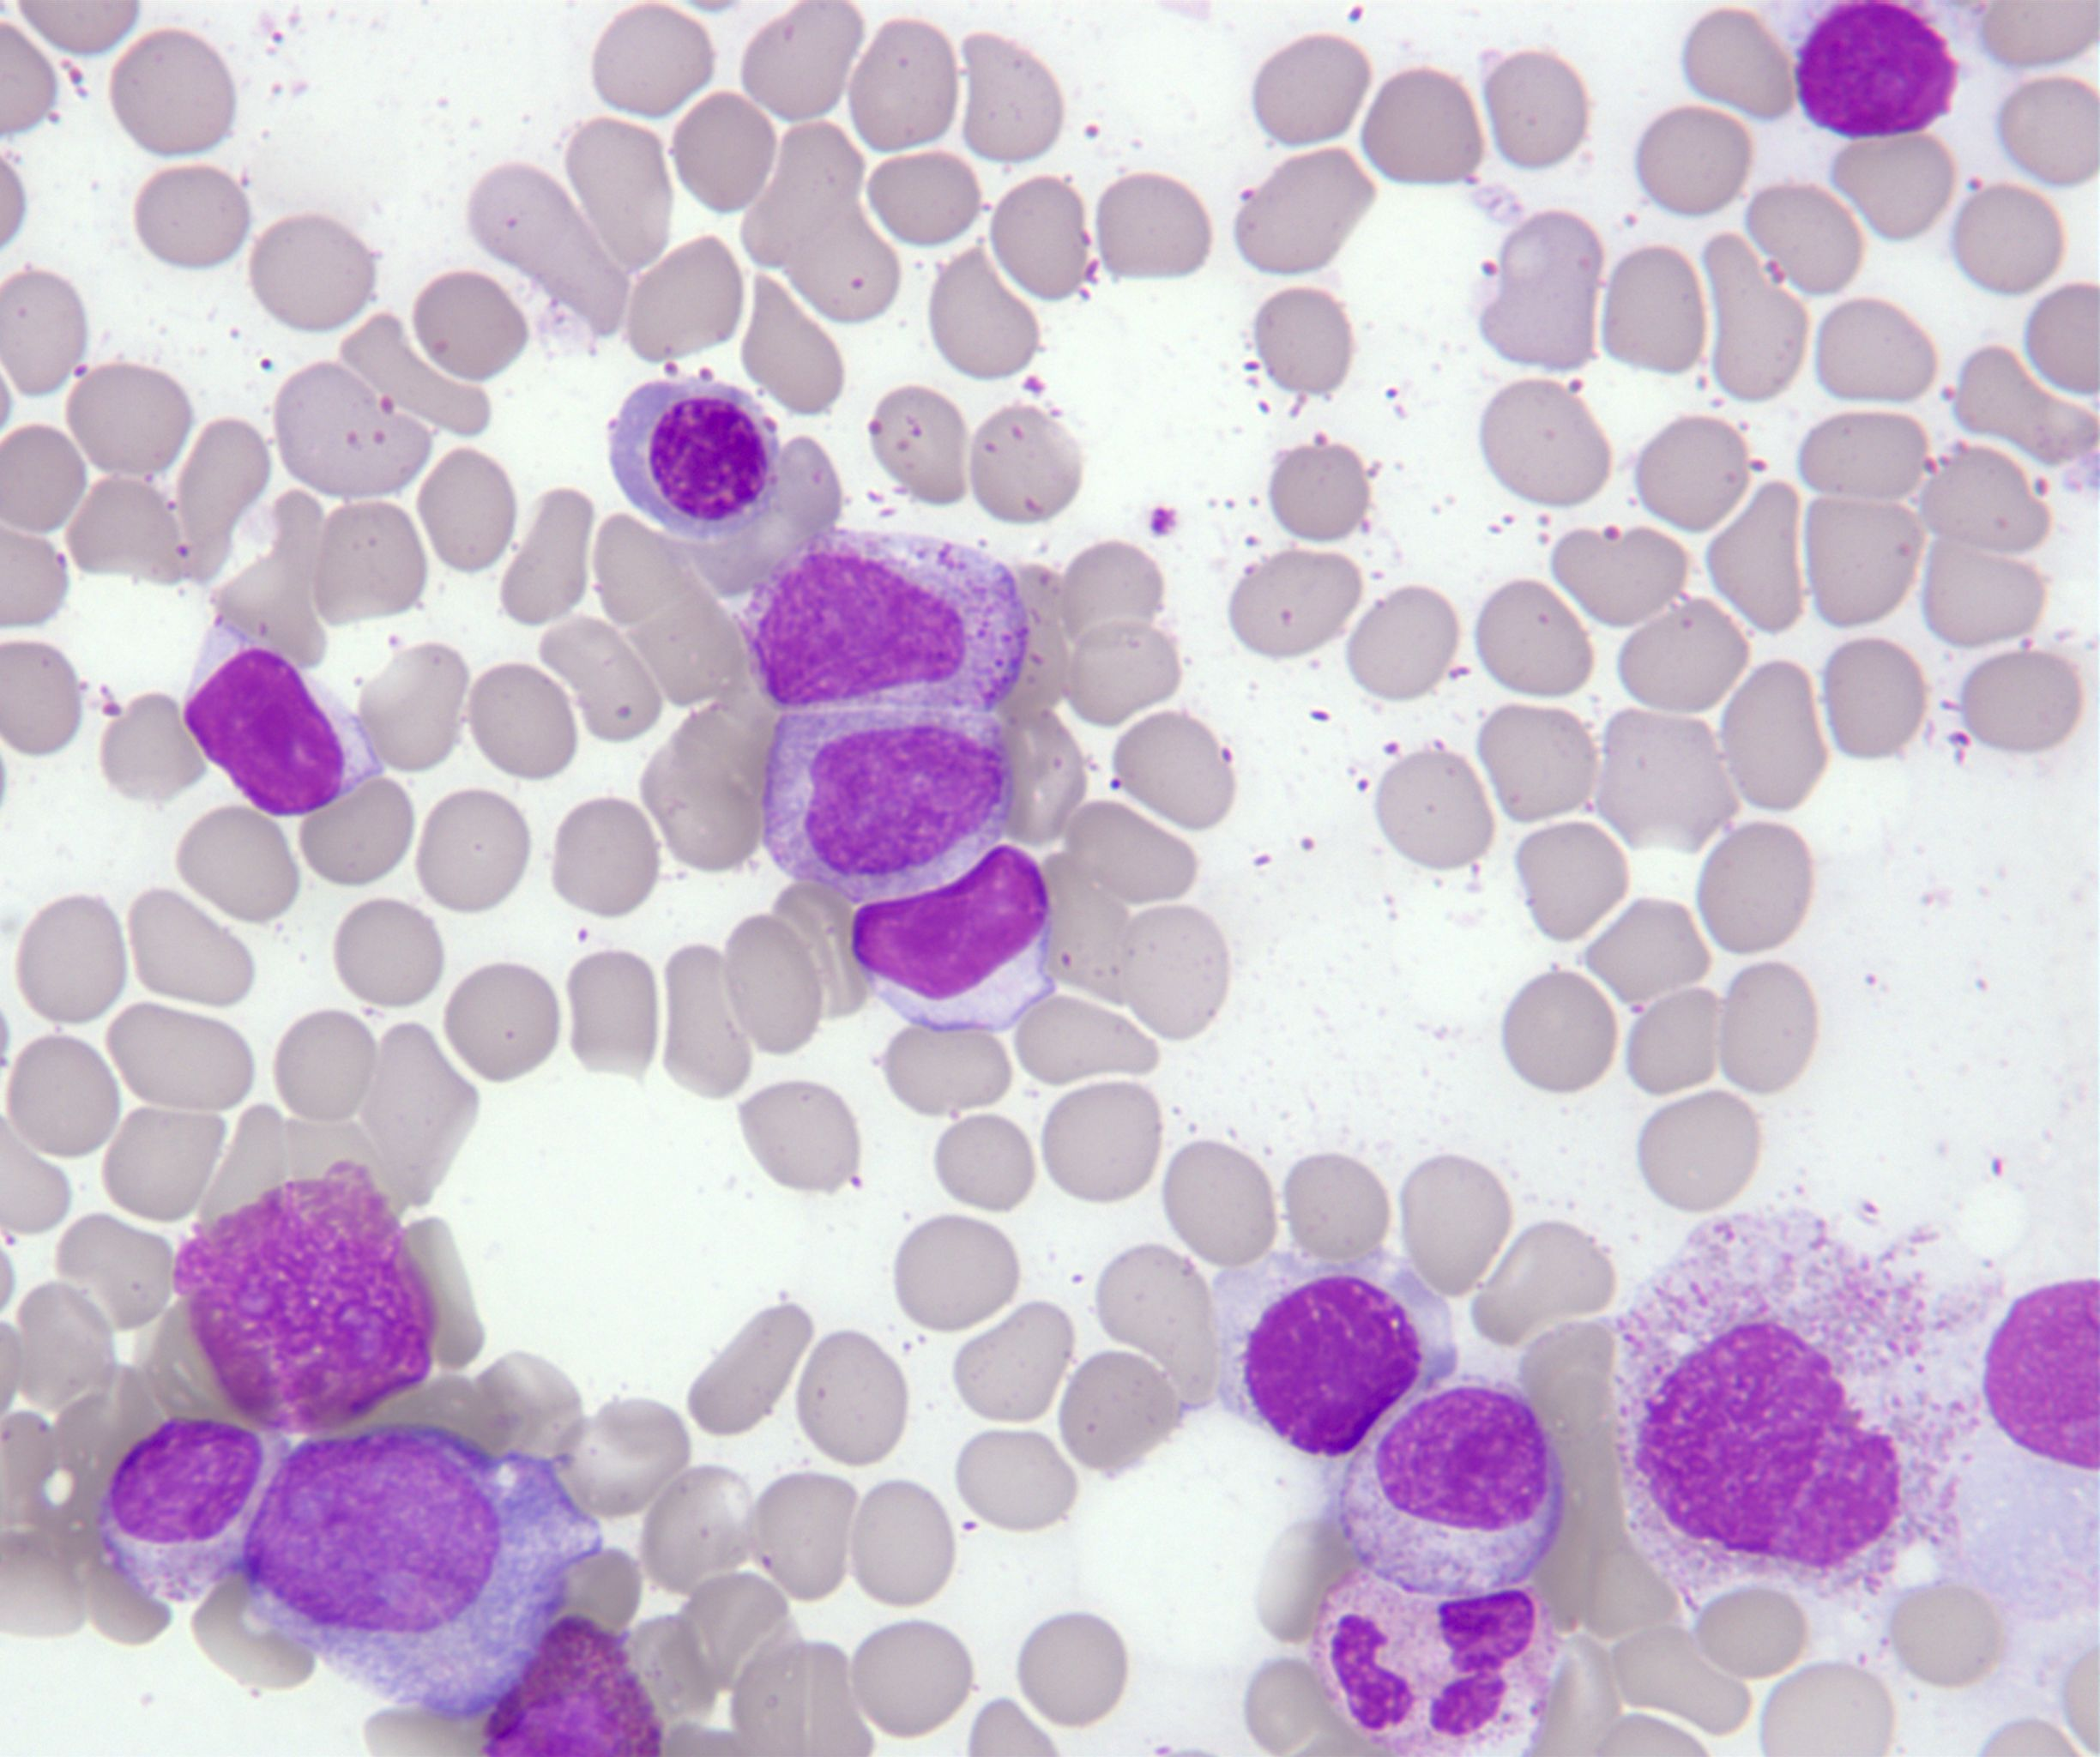24: (609, 377, 787, 543)
3: (241, 1422, 609, 1724), (726, 525, 1033, 710), (1341, 1371, 1568, 1600), (757, 703, 1015, 904), (87, 1412, 290, 1609)
32: (181, 616, 394, 824), (848, 841, 1059, 1040)
x: (1605, 1312, 1927, 1577), (167, 1157, 447, 1441), (1209, 1249, 1467, 1460), (1306, 1562, 1563, 1757), (1788, 0, 1964, 148)
